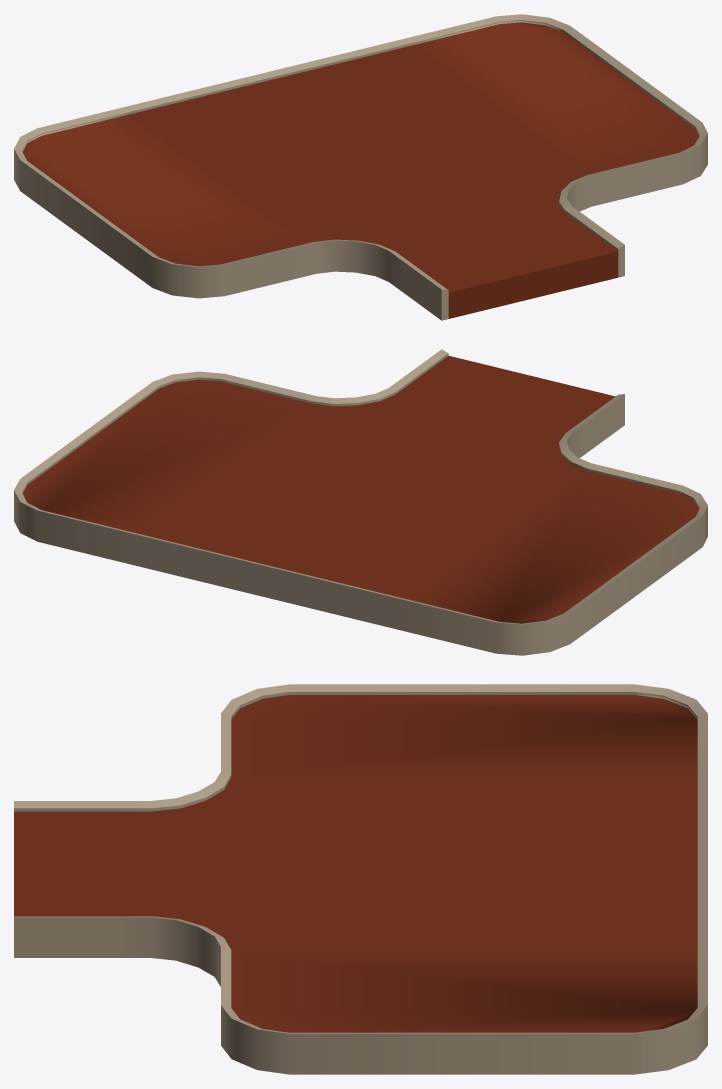
Rendered from Path_BuildingEntrances.fbx.
3 views of the same model, one above another, from view 1: azimuth 30°, elevation 25°; view 2: azimuth 150°, elevation 25°; view 3: azimuth 270°, elevation 25° (orthographic). The views are drawn at different scales.
Visible parts, largest first — view 1: Path_BuildingEntrances; view 2: Path_BuildingEntrances; view 3: Path_BuildingEntrances.
Part boxes in pixels (x1=…): Path_BuildingEntrances: x1=14, y1=14, x2=707, y2=320; Path_BuildingEntrances: x1=14, y1=349, x2=707, y2=655; Path_BuildingEntrances: x1=14, y1=684, x2=707, y2=1074.
Bounding box in the file's own units: 1200 × 65 × 1007.
